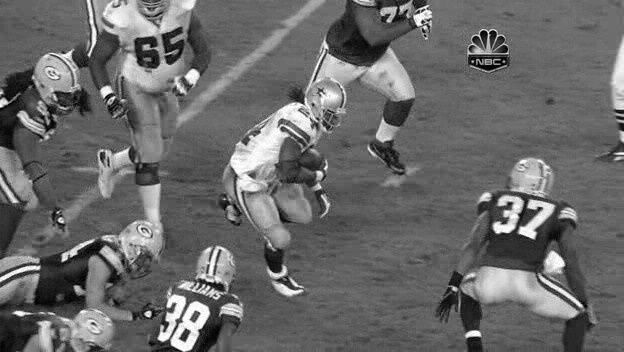person: (313, 80, 348, 131), (312, 80, 347, 131), (314, 80, 349, 131), (313, 79, 348, 130), (313, 81, 348, 132)
target_negative: (72, 184, 496, 287), (559, 212, 568, 343), (164, 309, 376, 312), (548, 217, 578, 226), (532, 124, 534, 259), (313, 144, 318, 187)
